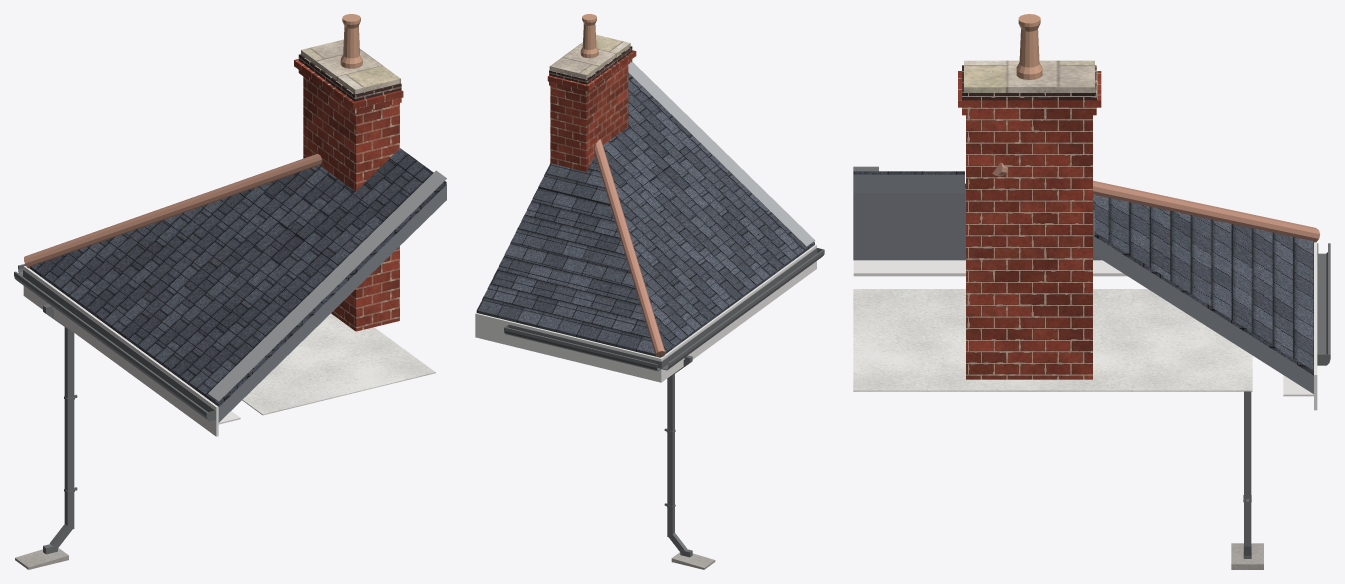
Rendered from out_roof_l.glb.
3 views of the same model, side by side, from view 1: azimuth 30°, elevation 25°; view 2: azimuth 150°, elevation 25°; view 3: azimuth 270°, elevation 25° (orthographic). The views are drawn at different scales.
Parts seen in each view (by area): view 1: out_roof_l_shingles, out_roof_l_brick, out_roof_l_ceil, out_roof_l_gutter, out_roof_l_lead, out_roof_l_ridge_c, out_roof_l_slate_c, out_roof_l_trim, out_roof_l_stone_c, out_roof_l_clay, out_roof_l_brick_d, out_roof_l_concrete; view 2: out_roof_l_shingles, out_roof_l_brick, out_roof_l_gutter, out_roof_l_trim, out_roof_l_lead, out_roof_l_ridge_c, out_roof_l_stone_c, out_roof_l_clay, out_roof_l_brick_d, out_roof_l_concrete; view 3: out_roof_l_brick, out_roof_l_ceil, out_roof_l_shingles, out_roof_l_slate_c, out_roof_l_stone_c, out_roof_l_ridge_c, out_roof_l_trim, out_roof_l_gutter, out_roof_l_clay, out_roof_l_brick_d, out_roof_l_concrete.
Part boxes in pixels (<box>): out_roof_l_shingles: <box>29,148,446,406</box>; out_roof_l_brick: <box>294,59,403,331</box>; out_roof_l_ceil: <box>242,313,435,415</box>; out_roof_l_gutter: <box>14,264,216,554</box>; out_roof_l_lead: <box>208,170,446,401</box>; out_roof_l_ridge_c: <box>24,154,321,268</box>; out_roof_l_slate_c: <box>218,185,446,422</box>; out_roof_l_trim: <box>23,266,240,436</box>; out_roof_l_stone_c: <box>301,39,400,94</box>; out_roof_l_clay: <box>340,14,362,68</box>; out_roof_l_brick_d: <box>298,54,401,101</box>; out_roof_l_concrete: <box>15,548,68,569</box>; out_roof_l_shingles: <box>476,73,814,357</box>; out_roof_l_brick: <box>547,50,636,171</box>; out_roof_l_gutter: <box>504,248,824,557</box>; out_roof_l_trim: <box>475,244,816,382</box>; out_roof_l_lead: <box>628,61,815,246</box>; out_roof_l_ridge_c: <box>594,139,665,357</box>; out_roof_l_stone_c: <box>549,34,630,78</box>; out_roof_l_clay: <box>580,14,598,58</box>; out_roof_l_brick_d: <box>549,46,632,84</box>; out_roof_l_concrete: <box>671,552,715,569</box>; out_roof_l_brick: <box>958,71,1101,379</box>; out_roof_l_ceil: <box>853,289,1252,391</box>; out_roof_l_shingles: <box>853,171,1313,375</box>; out_roof_l_slate_c: <box>853,174,1313,393</box>; out_roof_l_stone_c: <box>964,60,1094,92</box>; out_roof_l_ridge_c: <box>992,162,1320,242</box>; out_roof_l_trim: <box>853,241,1317,410</box>; out_roof_l_gutter: <box>1243,243,1330,558</box>; out_roof_l_clay: <box>1016,14,1042,79</box>; out_roof_l_brick_d: <box>962,65,1096,100</box>; out_roof_l_concrete: <box>1231,543,1263,569</box>.
Size of the model in its own units: 3.61 by 7.2 by 4.66.
Materials: 12 (6 with a texture image).
